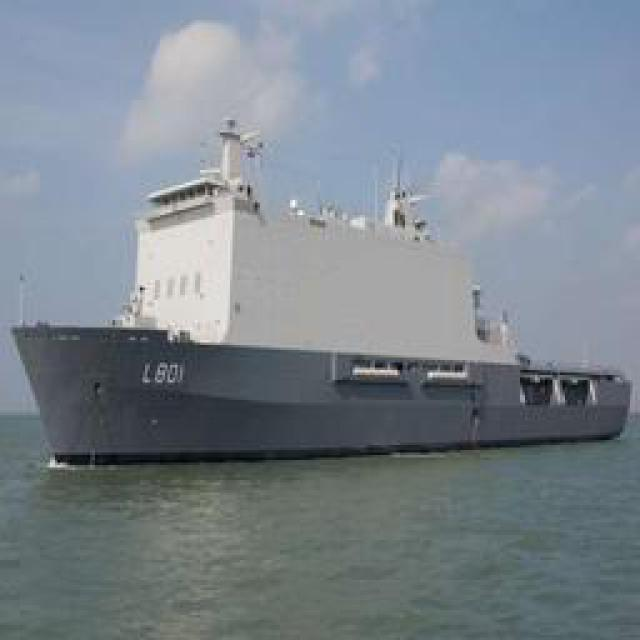Ship: (13, 96, 631, 461)
